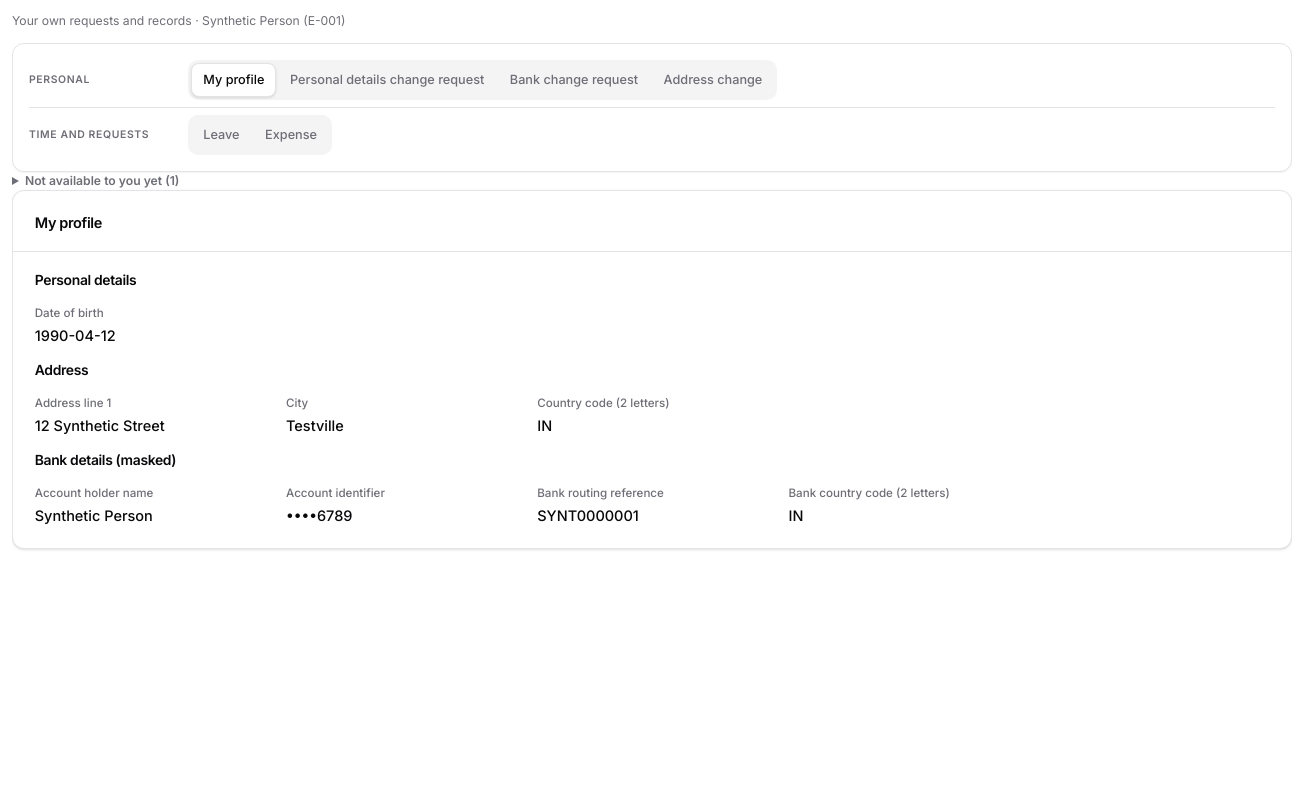
Test: pages › My ESS
The image size is (1292, 800).
Expected: the text "••••6789" is shown, [286,507,352,524]
# A change-request tab: its form and the list of the person's own requests.
Click the tab "Bank change request" at {"x": 574, "y": 80}, box [498,63,650,97]
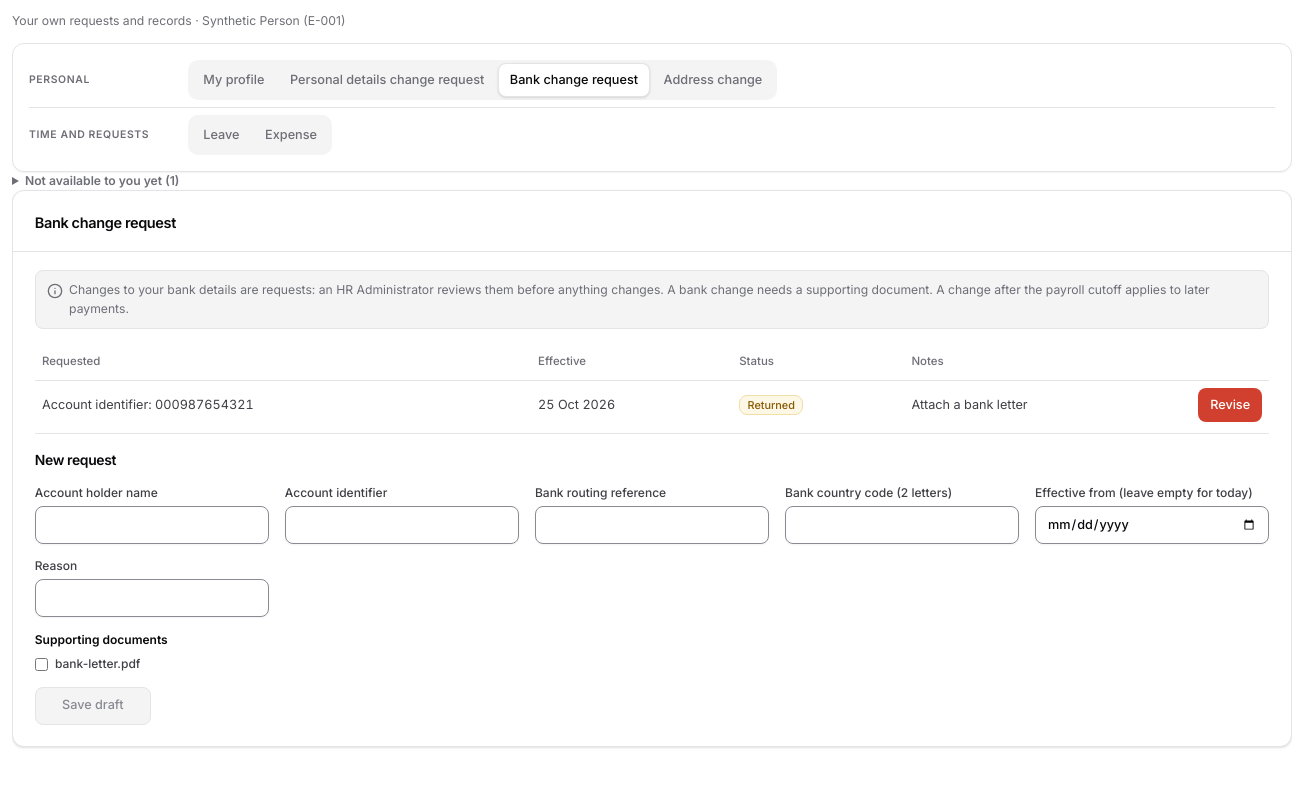
Expected: the form named "New bank details request" is shown, [35,433,1269,725]
Expected: the text "Attach a bank letter" is shown, [904,381,1191,429]
